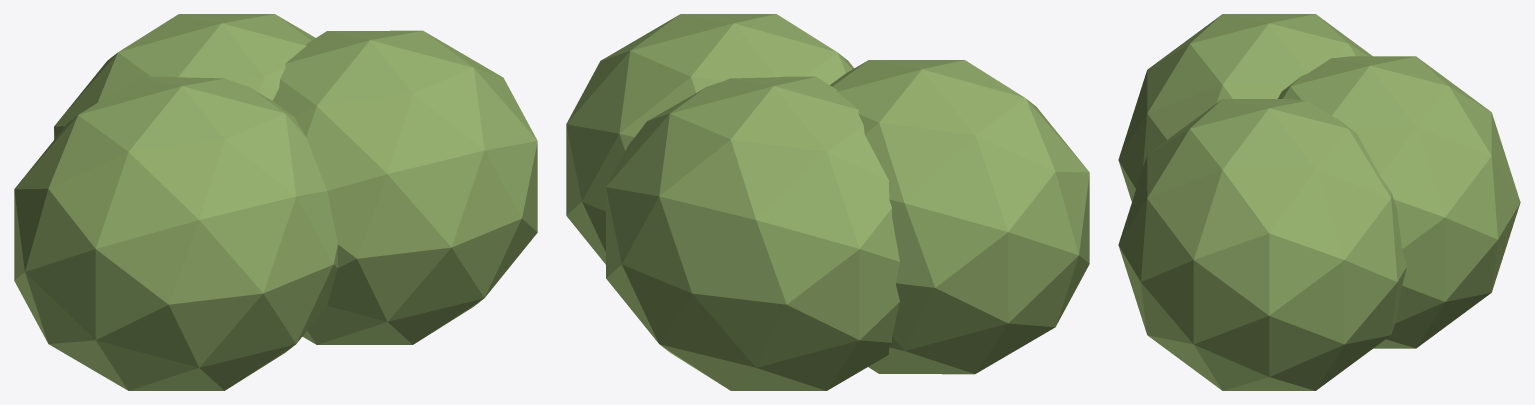
The model's file is bush.glb.
3 views of the same model, side by side, from view 1: azimuth 30°, elevation 25°; view 2: azimuth 150°, elevation 25°; view 3: azimuth 270°, elevation 25° (orthographic). The views are drawn at different scales.
Parts seen in each view (by area): view 1: part_0, part_1, part_2; view 2: part_2, part_0, part_1; view 3: part_1, part_2, part_0.
Part boxes in pixels (left/top/right/bottom): part_0: left=14, top=76, right=337, bottom=390; part_1: left=272, top=30, right=537, bottom=344; part_2: left=54, top=14, right=315, bottom=139; part_2: left=606, top=76, right=899, bottom=390; part_0: left=830, top=60, right=1089, bottom=374; part_1: left=566, top=14, right=854, bottom=264; part_1: left=1118, top=99, right=1406, bottom=390; part_2: left=1278, top=56, right=1520, bottom=348; part_0: left=1118, top=14, right=1372, bottom=201.
Size of the model in its own units: 1.6 by 0.9 by 1.2.
